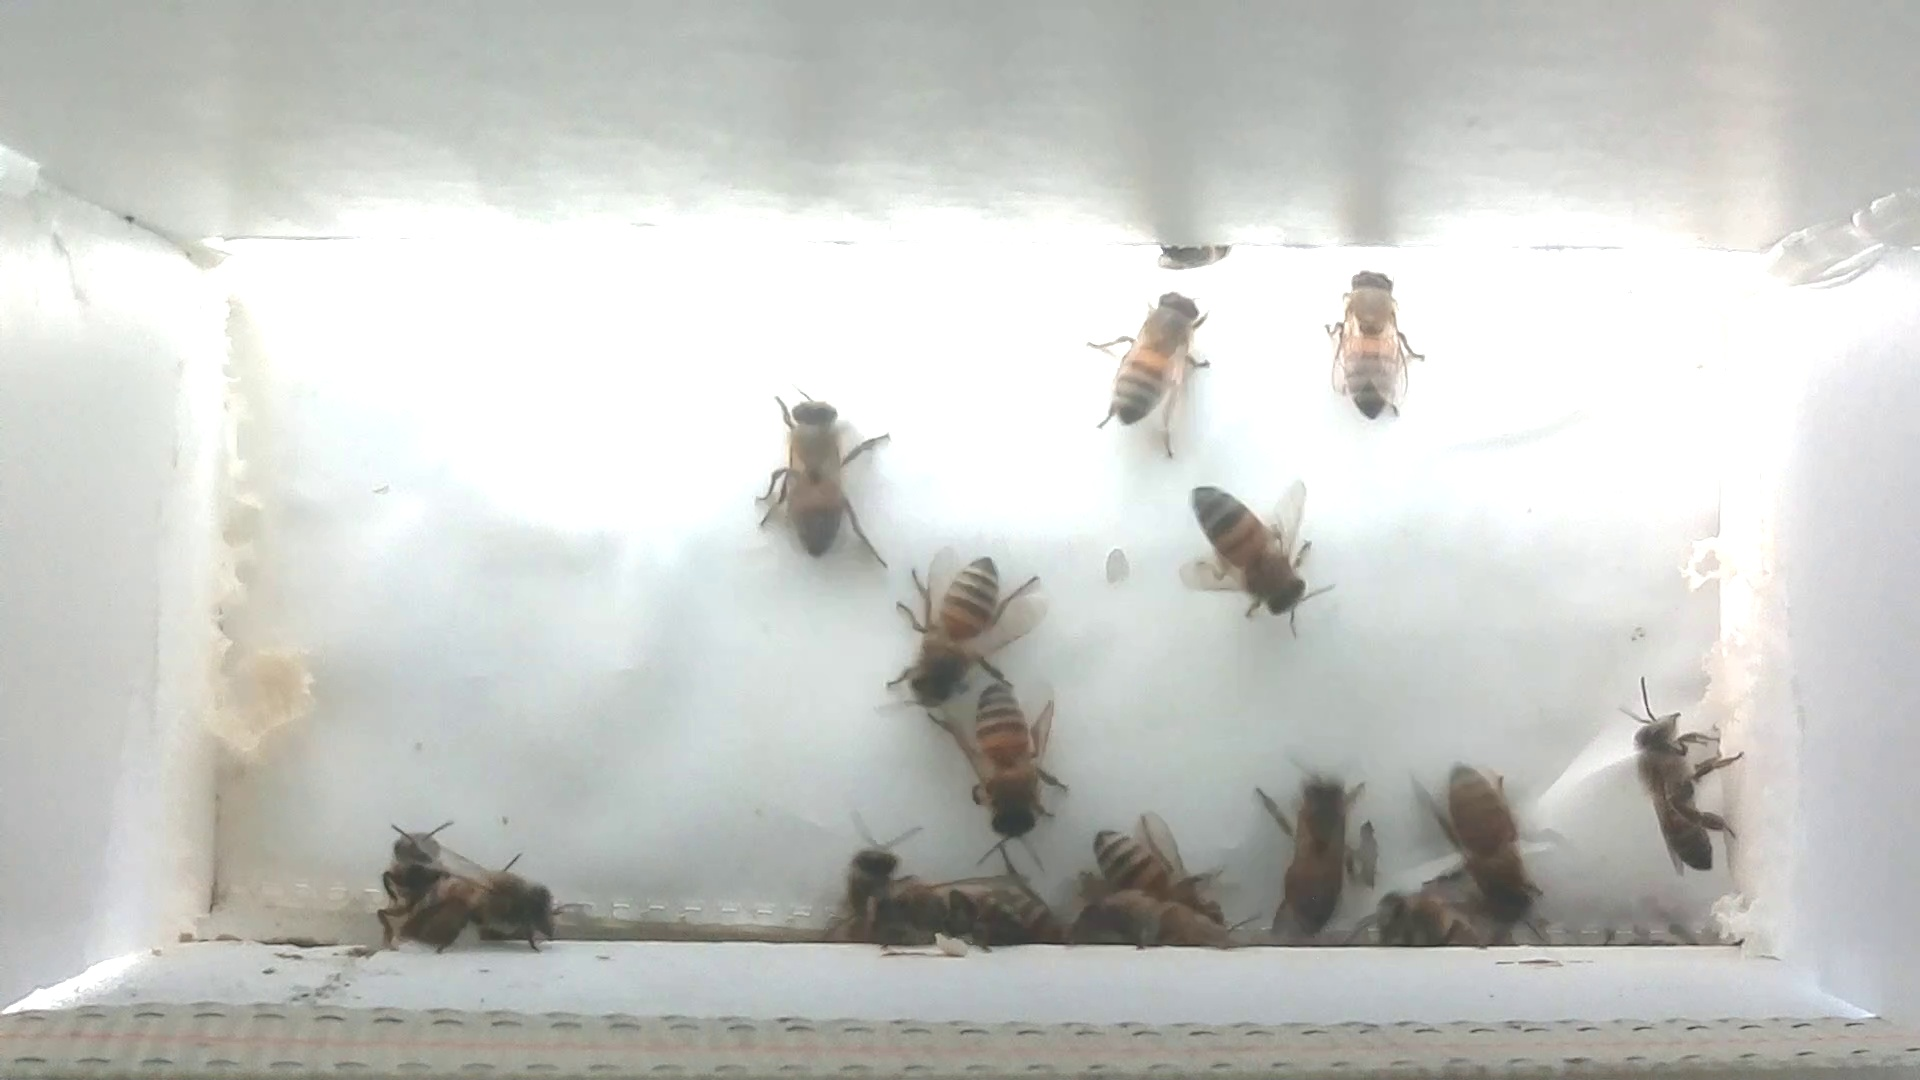bee: (1605, 679, 1753, 886), (918, 674, 1087, 851), (874, 535, 1030, 727), (750, 378, 898, 574), (1160, 462, 1336, 625), (1073, 272, 1220, 464), (1403, 753, 1557, 934), (1309, 258, 1439, 439), (1254, 764, 1375, 948), (1080, 808, 1249, 930), (381, 862, 578, 960), (894, 848, 1058, 953), (1060, 880, 1249, 967), (815, 825, 910, 955), (1349, 878, 1485, 965), (364, 818, 459, 928)
